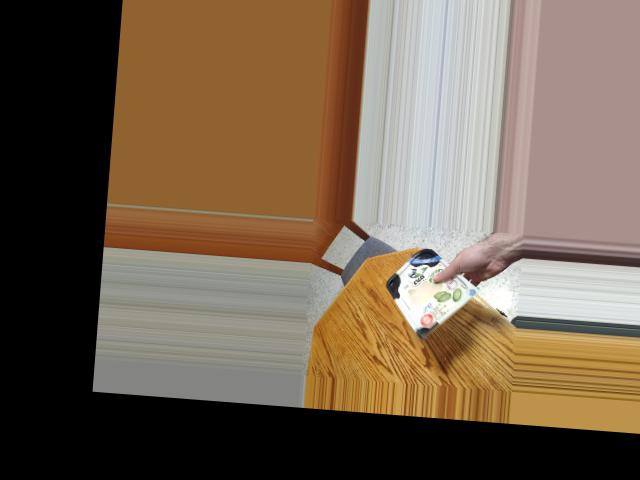cheese: (391, 246, 464, 330)
